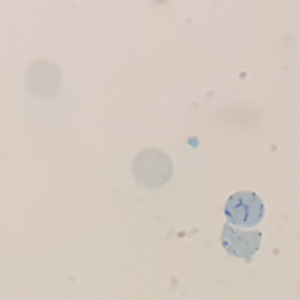aggregate reticulocyte: (222, 189, 268, 230)
erythrocyte: (130, 147, 176, 190), (21, 59, 65, 101)
punctate reticulocyte: (219, 221, 265, 260)
